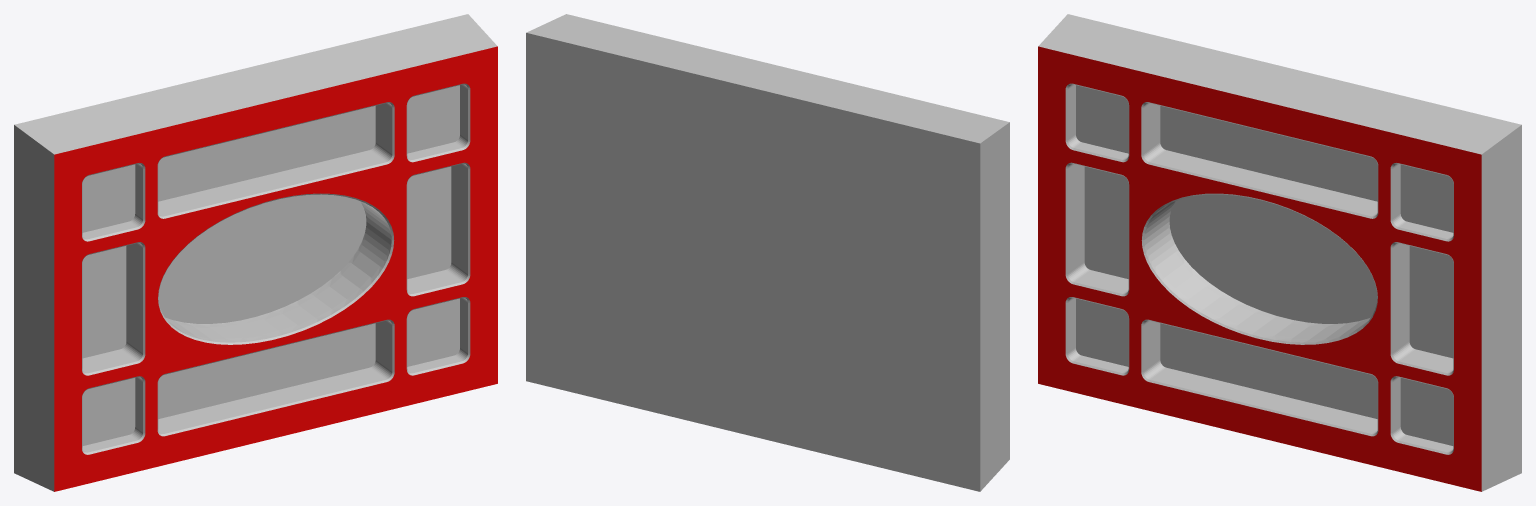
The model's file is TESTE_M2_SF_stp_147.obj.
The picture shows the model from 3 angles, left to right: view 1: azimuth 30°, elevation 25°; view 2: azimuth 150°, elevation 25°; view 3: azimuth 330°, elevation 25°; orthographic projection.
Visible parts, largest first — view 1: Object1; view 2: Object1; view 3: Object1.
Part boxes in pixels (x1=…): Object1: x1=14, y1=14, x2=497, y2=491; Object1: x1=526, y1=14, x2=1009, y2=491; Object1: x1=1038, y1=14, x2=1521, y2=491.
Bounding box in the file's own units: 150 × 110 × 20.
